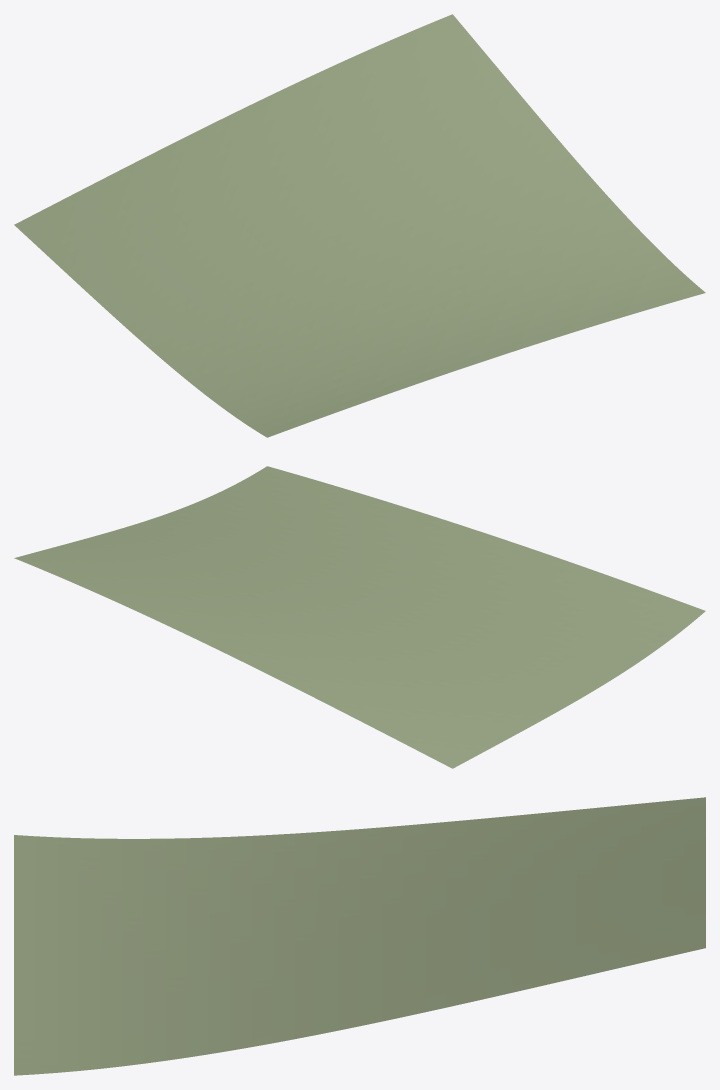
The model's file is expanse-25-19.glb.
3 renders of one model, top to bottom at view 1: azimuth 30°, elevation 25°; view 2: azimuth 150°, elevation 25°; view 3: azimuth 270°, elevation 25°, orthographic. The views are drawn at different scales.
Visible parts, largest first — view 1: expanse-25-19; view 2: expanse-25-19; view 3: expanse-25-19.
Part boxes in pixels (x1=…): expanse-25-19: x1=14, y1=14, x2=705, y2=437; expanse-25-19: x1=14, y1=466, x2=705, y2=768; expanse-25-19: x1=14, y1=797, x2=705, y2=1075.
Bounding box in the file's own units: 256 × 74.78 × 256.
